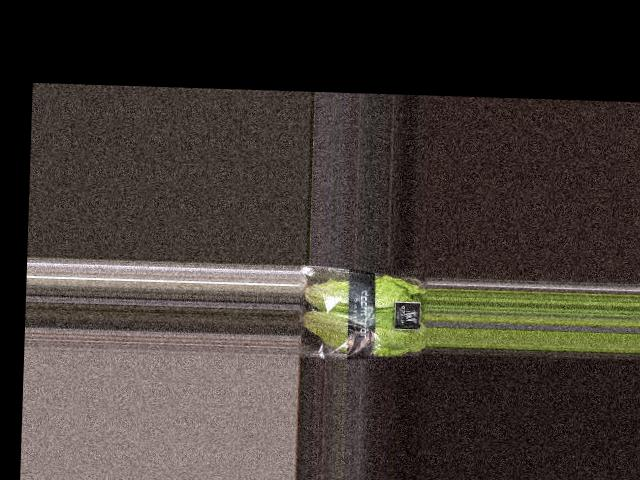lettuce: (297, 265, 426, 356)
